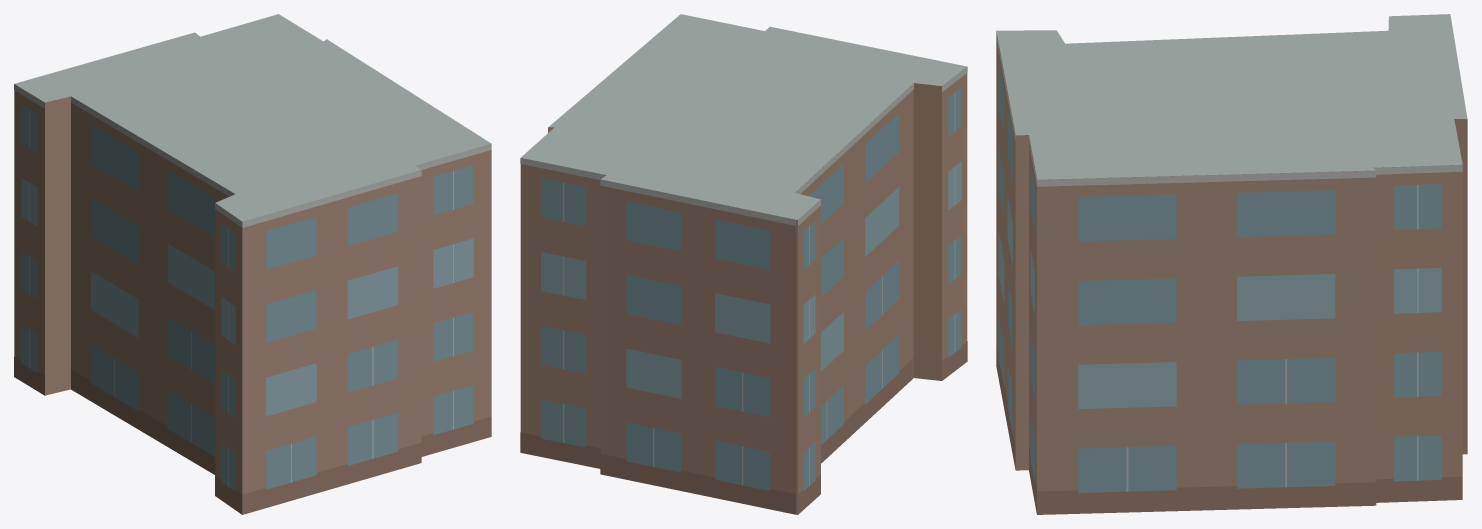
Rendered from survey-upis-32781211.glb.
The picture shows the model from 3 angles, left to right: view 1: azimuth 30°, elevation 25°; view 2: azimuth 150°, elevation 25°; view 3: azimuth 270°, elevation 25°; orthographic projection. The views are drawn at different scales.
Parts seen in each view (by area): view 1: survey-upis-32781211.tmp; view 2: survey-upis-32781211.tmp; view 3: survey-upis-32781211.tmp.
Part boxes in pixels (x1,y1,x2,y2): survey-upis-32781211.tmp: (14, 14, 491, 514); survey-upis-32781211.tmp: (520, 14, 967, 514); survey-upis-32781211.tmp: (996, 14, 1467, 514).
Bounding box in the file's own units: 12.31 × 11.6 × 14.79.
